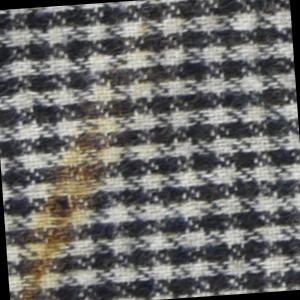Damage: (27, 143, 104, 258)
Oil Stain: (1, 1, 209, 300)
